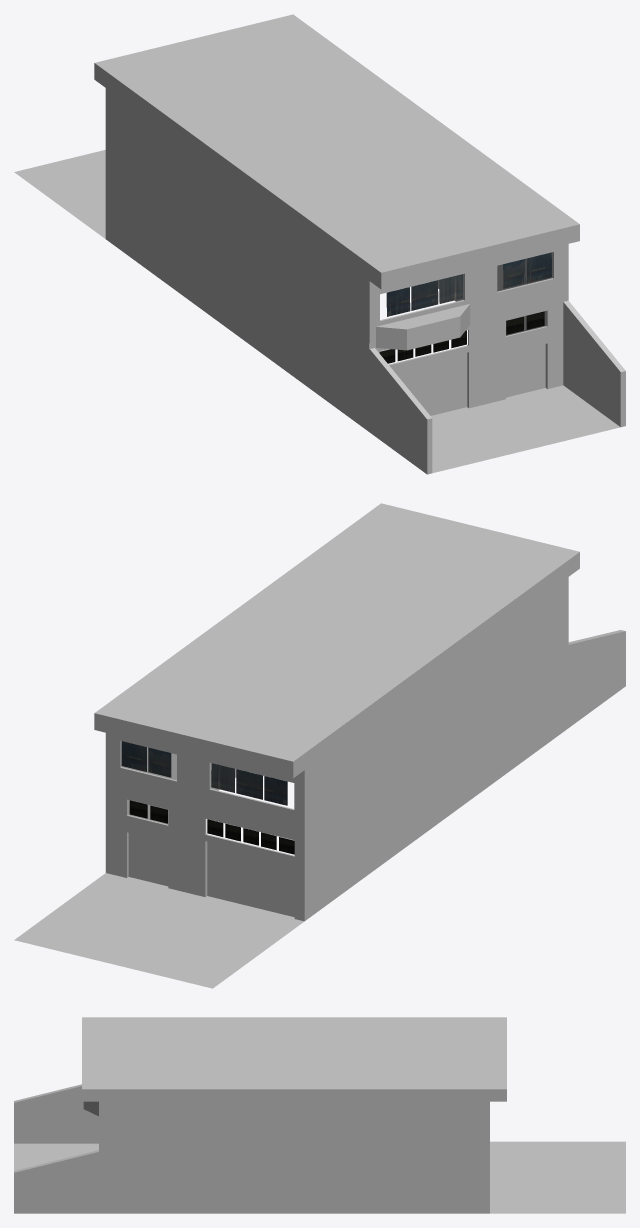
The picture shows the model from 3 angles, top to bottom: view 1: azimuth 30°, elevation 25°; view 2: azimuth 150°, elevation 25°; view 3: azimuth 270°, elevation 25°; orthographic projection. The views are drawn at different scales.
Parts seen in each view (by area): view 1: BB-038; view 2: BB-038; view 3: BB-038.
Part boxes in pixels (box(x1,y1,x2,y2)): BB-038: box(14, 14, 625, 474); BB-038: box(14, 503, 625, 988); BB-038: box(14, 1017, 625, 1213).
Size of what is drawn, in the model's own units: 10 by 8.08 by 36.
